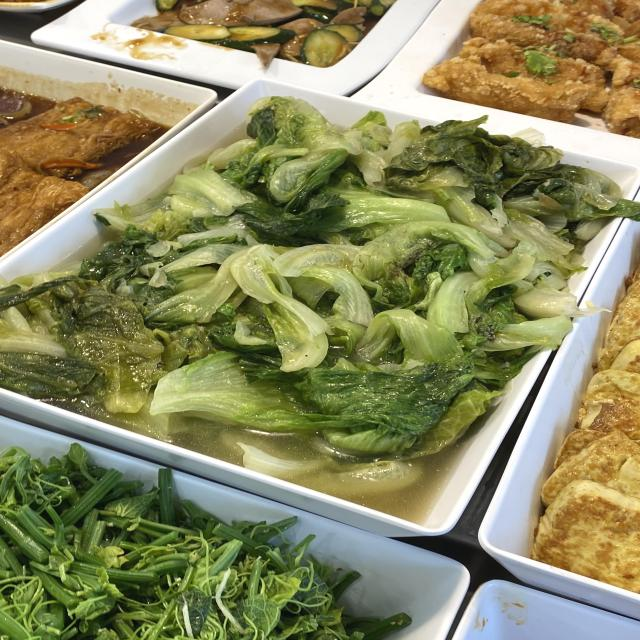Fushan-lettuce: (191, 162, 484, 414)
